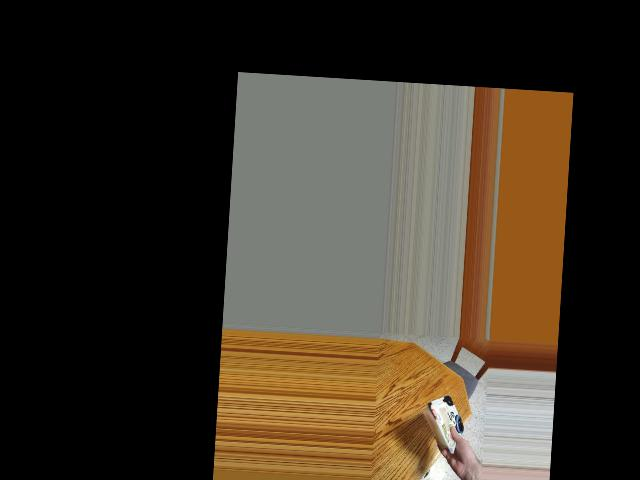cheese: (416, 396, 472, 445)
